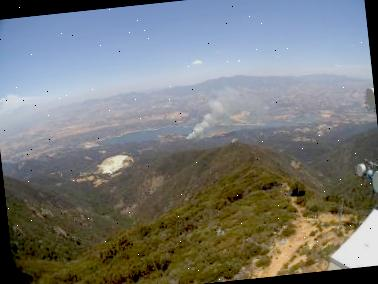smoke: (177, 80, 268, 141)
